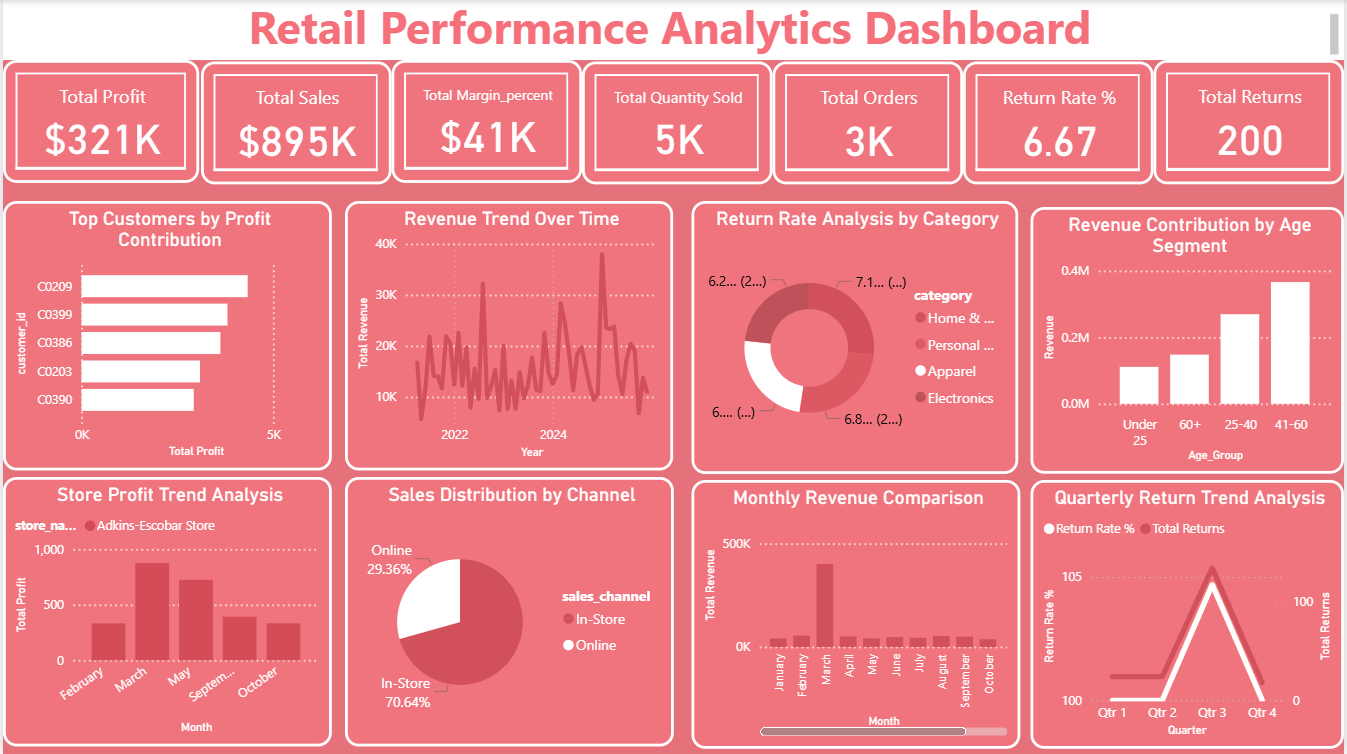

Layout of this report page (visuals, bound fields, positions):
{"tool":"powerbi","page":{"name":"Retail Performance Analytics Dashboard","canvas":[1280,720],"ordinal":5},"visuals":[{"type":"cardVisual","fields":{"Data":["sales_clean.Total Sales"]},"box":[189.1,58.7,181.9,117.5],"z":0},{"type":"cardVisual","fields":{"Data":["sales_clean.Total Orders"]},"box":[734.8,58.7,181.9,117.5],"z":1000},{"type":"cardVisual","fields":{"Data":["customers_clean.Total Profit"]},"box":[0,57.3,187.6,117.5],"z":2000},{"type":"cardVisual","fields":{"Data":["sales_clean.Total Quantity Sold"]},"box":[552.9,58.7,181.9,117.5],"z":3000},{"type":"cardVisual","fields":{"Data":["products_clean.Total Margin_percent"]},"box":[371,57.3,181.9,117.5],"z":4000},{"type":"cardVisual","fields":{"Data":["products_clean.Return Rate %"]},"box":[916.7,58.7,181.9,117.5],"z":5000},{"type":"cardVisual","fields":{"Data":["returns_clean.Total Returns"]},"box":[1098.6,57.3,181.9,118.9],"z":6000},{"type":"barChart","title":"Top Customers by Profit Contribution","fields":{"Category":["customers_clean.customer_id"],"Y":["customers_clean.Total Profit"]},"box":[0,191.9,313.7,257],"z":7000},{"type":"lineChart","title":"Revenue Trend Over Time","fields":{"Category":["customers_clean.signup_date.Variation.Date Hierarchy.Year","customers_clean.signup_date.Variation.Date Hierarchy.Month"],"Y":["customers_clean.Total Revenue"]},"box":[327.1,192.3,313.4,257.4],"z":8000},{"type":"lineChart","title":"Quarterly Return Trend Analysis","fields":{"Category":["returns_clean.return_date.Variation.Date Hierarchy.Year","returns_clean.return_date.Variation.Date Hierarchy.Quarter","returns_clean.return_date.Variation.Date Hierarchy.Month","returns_clean.return_date.Variation.Date Hierarchy.Day"],"Y":["products_clean.Return Rate %"],"Y2":["returns_clean.Total Returns"]},"box":[981.2,458.4,299.4,256.4],"z":9000},{"type":"columnChart","title":"Monthly Revenue Comparison","fields":{"Category":["sales_clean.order_date.Variation.Date Hierarchy.Month"],"Y":["customers_clean.Total Revenue"]},"box":[657.5,458.4,313.7,256.4],"z":10000},{"type":"pieChart","title":"Sales Distribution by Channel","fields":{"Category":["sales_clean.sales_channel"],"Y":["sales_clean.Total Sales"]},"box":[326.6,455.5,313.7,257],"z":11000},{"type":"columnChart","title":"Store Profit Trend Analysis","fields":{"Category":["sales_clean.order_date.Variation.Date Hierarchy.Month"],"Series":["stores_clean.store_name"],"Y":["customers_clean.Total Profit"]},"box":[0,455.5,313.7,257],"z":12000},{"type":"donutChart","title":"Return Rate Analysis by Category","fields":{"Category":["products_clean.category"],"Y":["products_clean.Return Rate %"]},"box":[657.2,192.3,311.9,260.4],"z":13000},{"type":"columnChart","title":"Revenue Contribution by Age Segment","fields":{"Category":["customers_clean.Age_Group"],"Y":["customers_clean.Revenue"]},"box":[981.2,197.7,299.4,255],"z":14000},{"type":"textbox","box":[0,0,1280.6,57.3],"z":15000}]}

Visuals, with their boxes in screenshot pixels (x1, y1, x2, y2), scaled from the page's 1280x720 canvas onto the 1347x754 screenshot:
cardVisual - sales_clean.Total Sales: box(199, 61, 390, 185)
cardVisual - sales_clean.Total Orders: box(773, 61, 965, 185)
cardVisual - customers_clean.Total Profit: box(0, 60, 197, 183)
cardVisual - sales_clean.Total Quantity Sold: box(582, 61, 773, 185)
cardVisual - products_clean.Total Margin_percent: box(390, 60, 582, 183)
cardVisual - products_clean.Return Rate %: box(965, 61, 1156, 185)
cardVisual - returns_clean.Total Returns: box(1156, 60, 1346, 185)
"Top Customers by Profit Contribution" barChart: box(0, 201, 330, 470)
"Revenue Trend Over Time" lineChart: box(344, 201, 674, 471)
"Quarterly Return Trend Analysis" lineChart: box(1033, 480, 1346, 749)
"Monthly Revenue Comparison" columnChart: box(692, 480, 1022, 749)
"Sales Distribution by Channel" pieChart: box(344, 477, 674, 746)
"Store Profit Trend Analysis" columnChart: box(0, 477, 330, 746)
"Return Rate Analysis by Category" donutChart: box(692, 201, 1020, 474)
"Revenue Contribution by Age Segment" columnChart: box(1033, 207, 1346, 474)
textbox: box(0, 0, 1346, 60)
